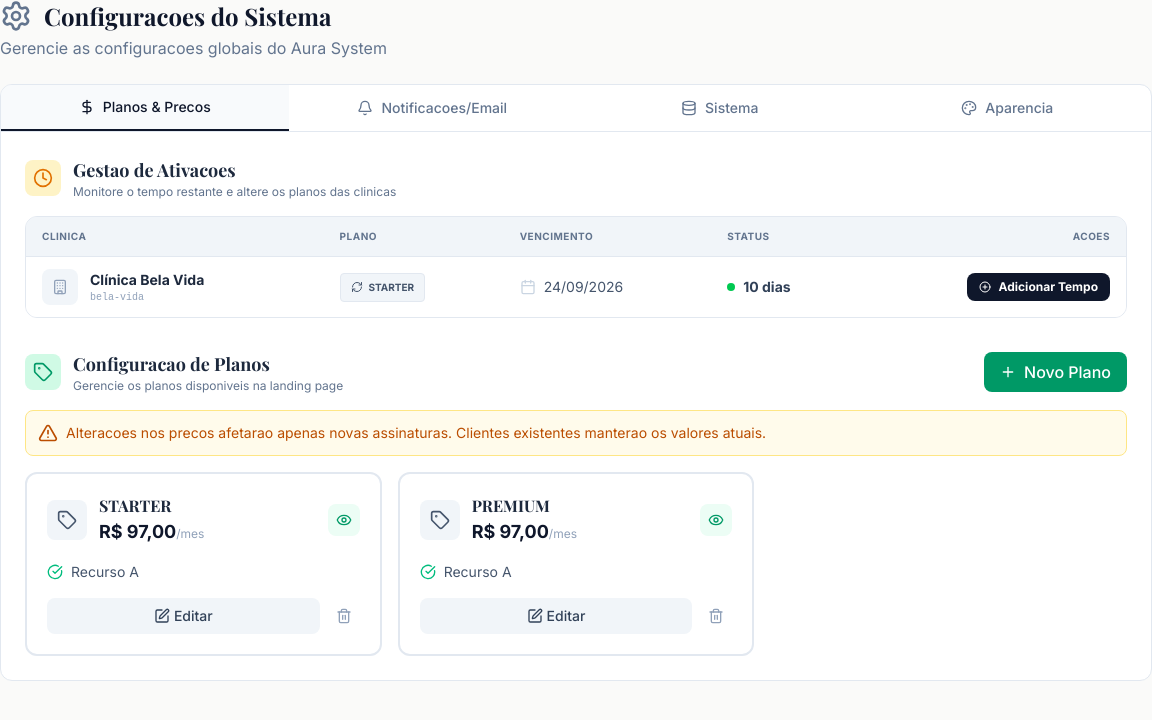
it: pages/king/KingSettings — Gestão de Ativações › marca o plano atual da empresa com o badge "Atual" no modal de troca (case-insensitive)
The width and height of the screenshot is (1152, 720).
Click the button "STARTER": coordinates (382, 287) [340,272,425,302]
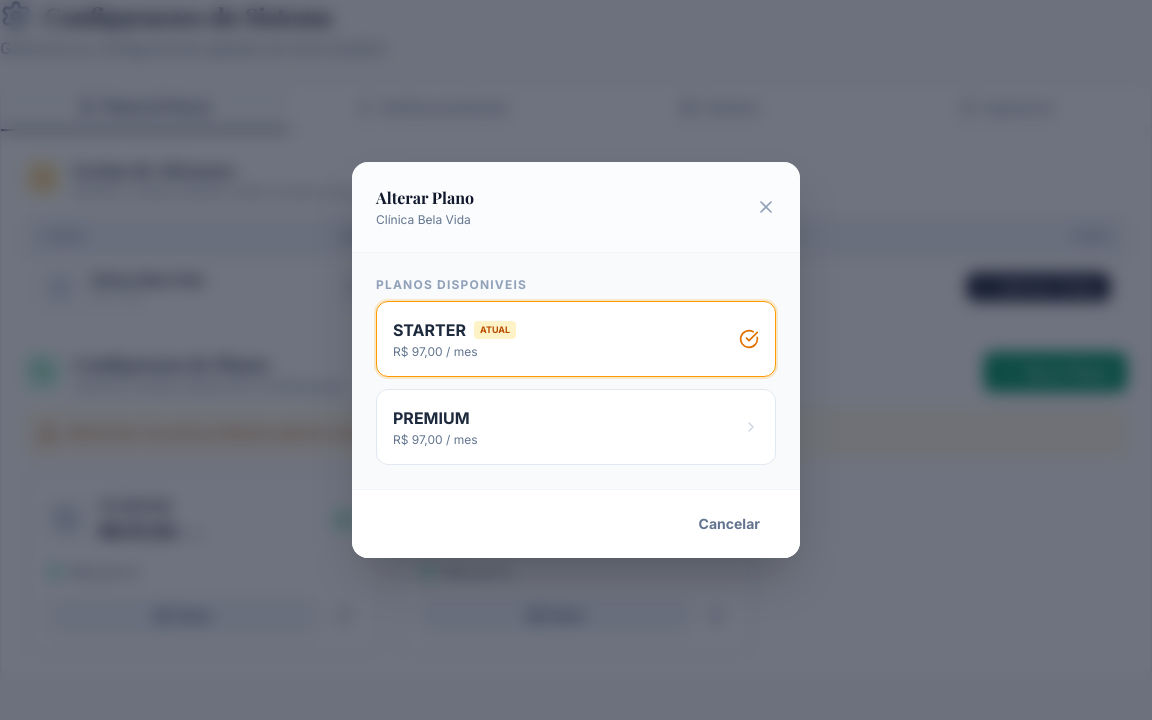
Now the text "Atual" is shown, box [474,321,516,339]
